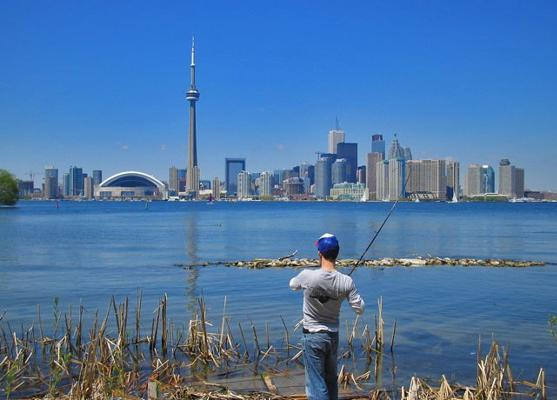person: (291, 233, 364, 400)
